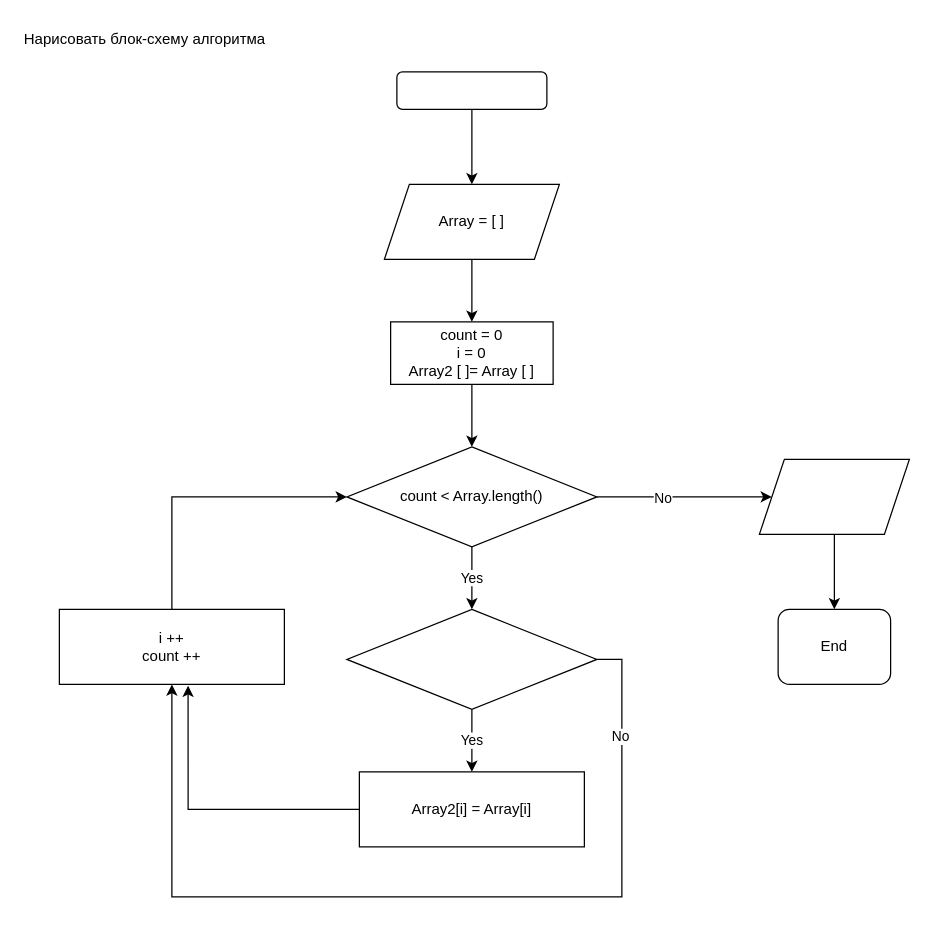
Some shapes in this 931 by 929 pixel diagram are drawn without their labels. Each missing label, with the centre of its shape:
"Array[i].length() <= 3" belongs at pixel 471 658.
"average" belongs at pixel 833 496.
"Start" belongs at pixel 471 90.
